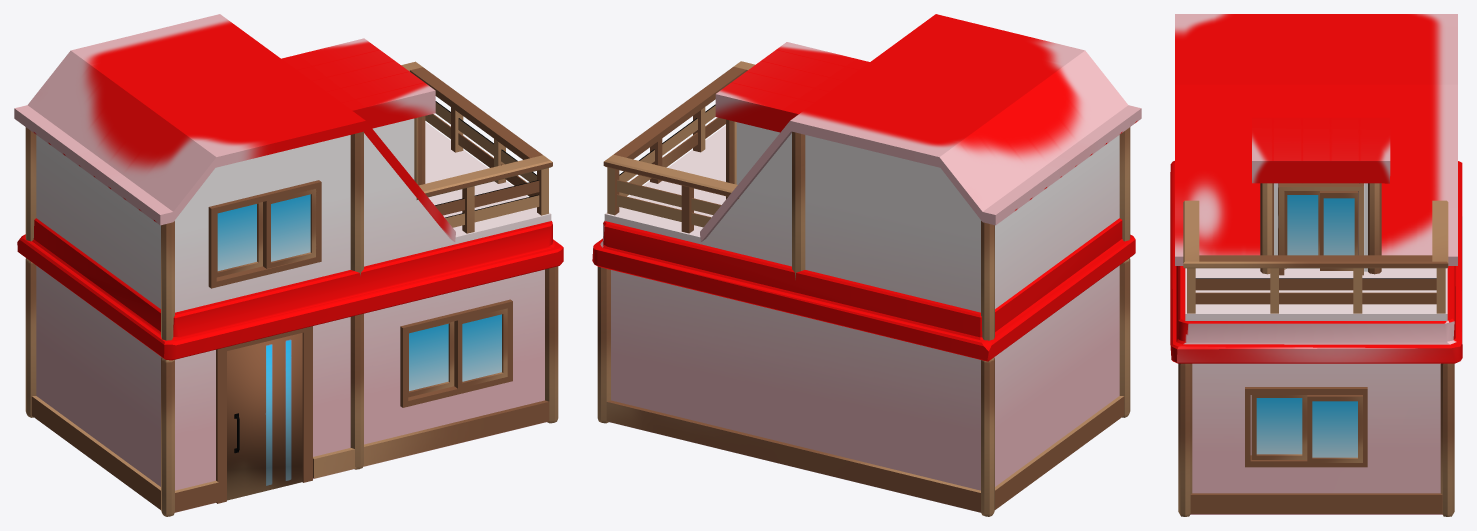
File: house6.glb
3 renders of one model, left to right at view 1: azimuth 30°, elevation 25°; view 2: azimuth 150°, elevation 25°; view 3: azimuth 270°, elevation 25°, orthographic. The views are drawn at different scales.
Parts seen in each view (by area): view 1: house6, toitrouge.001, porterouge.001, minitoit.001, Cube.011, Cube.016, Cube.012, Cube.021; view 2: house6, toitrouge.001, minitoit.001; view 3: house6, toitrouge.001, minitoit.001, Cube.022, Cube.023, Cube.025, Cube.024.
Part boxes in pixels (box(x1,y1,x2,y2)): house6: box(17, 61, 563, 516); toitrouge.001: box(14, 14, 455, 241); porterouge.001: box(227, 333, 302, 500); minitoit.001: box(281, 38, 435, 128); Cube.011: box(454, 308, 507, 388); Cube.016: box(263, 189, 316, 268); Cube.012: box(408, 321, 454, 397); Cube.021: box(216, 202, 262, 277); house6: box(592, 61, 1135, 516); toitrouge.001: box(700, 14, 1141, 242); minitoit.001: box(715, 42, 869, 132); house6: box(1170, 161, 1462, 516); toitrouge.001: box(1175, 14, 1457, 265); minitoit.001: box(1252, 117, 1390, 183); Cube.022: box(1307, 395, 1362, 462); Cube.023: box(1251, 395, 1307, 459); Cube.025: box(1320, 191, 1357, 270); Cube.024: box(1284, 191, 1319, 255).
Bounding box in the file's own units: 5.22 × 4.33 × 3.37.
1 material, 1 textured.
